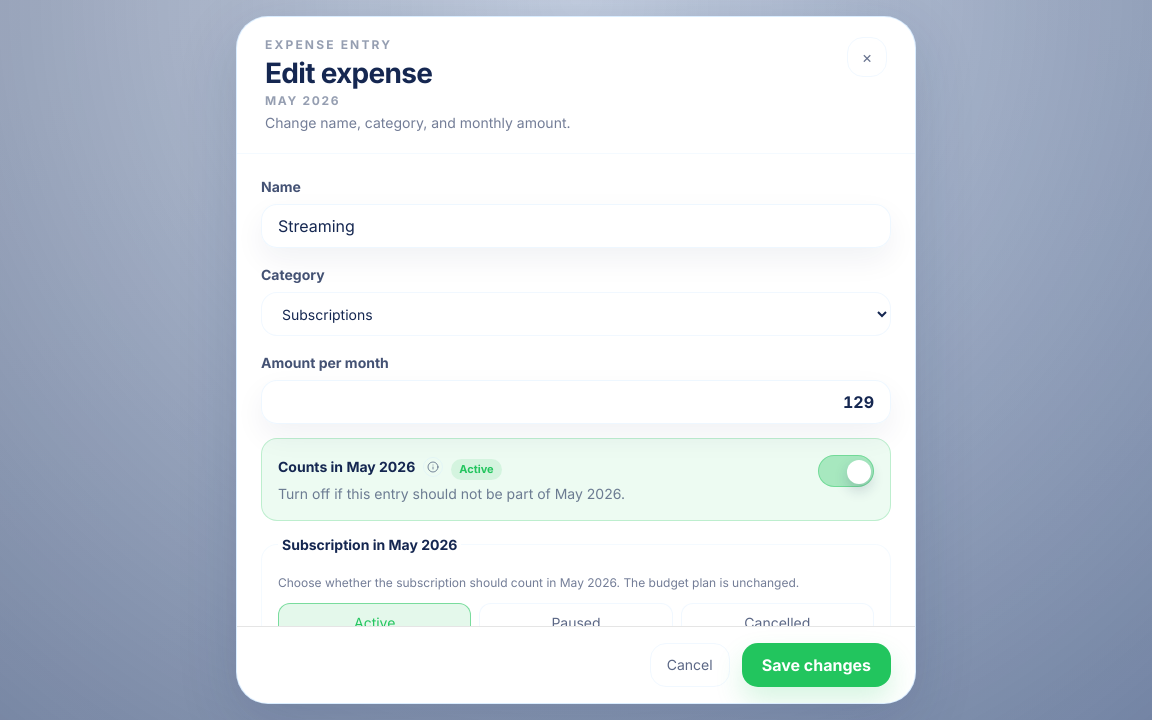
Test: ExpenseItemModal › prompts to discard when only the subscription lifecycle has changed
What coordinates should you click on to do the following:
click the radio button with test id "expense-item-modal-lifecycle-paused"
I would click on:
 (576, 622)
Its box is [479, 602, 673, 642].
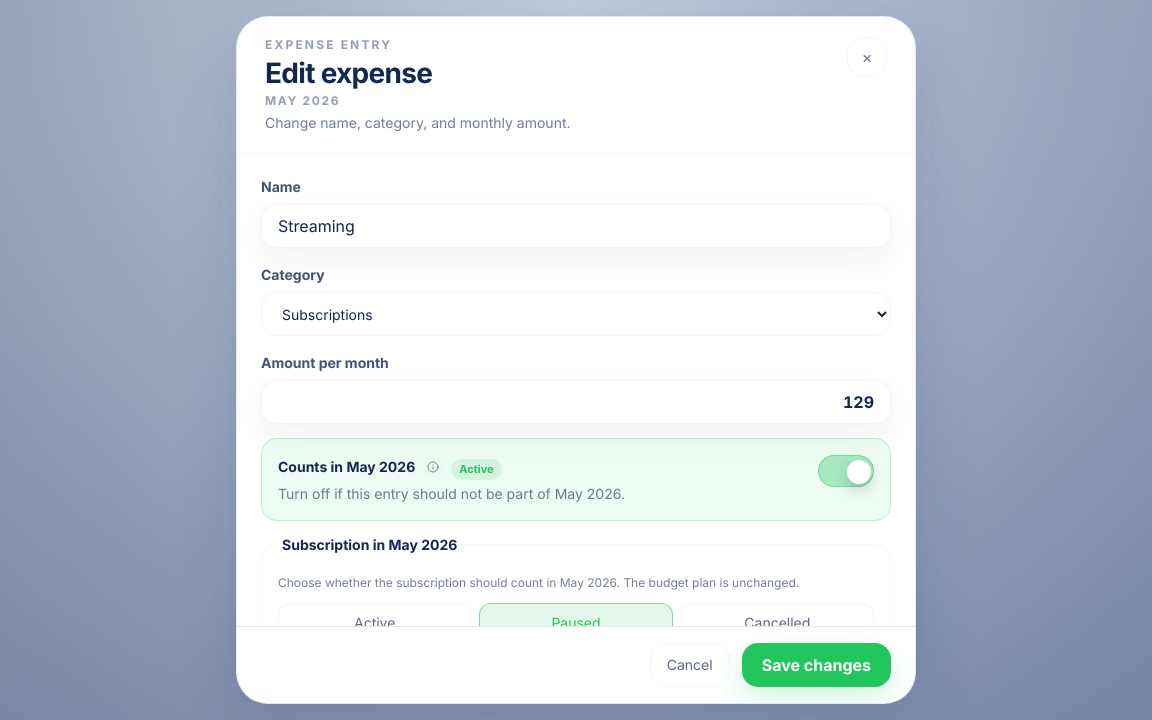
What coordinates should you click on to do the following:
click the button "Cancel"
I would click on:
 (690, 665)
Its box is [650, 643, 730, 687].
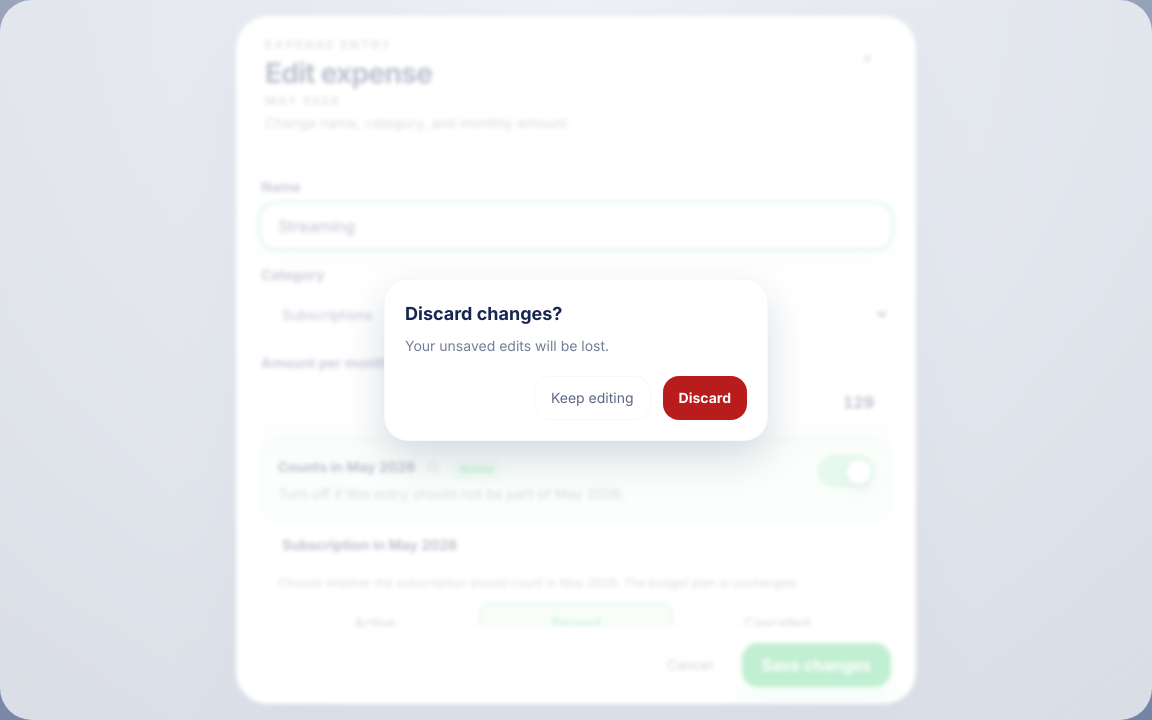
Now the text "Discard changes?" is shown, box [405, 303, 562, 324]
